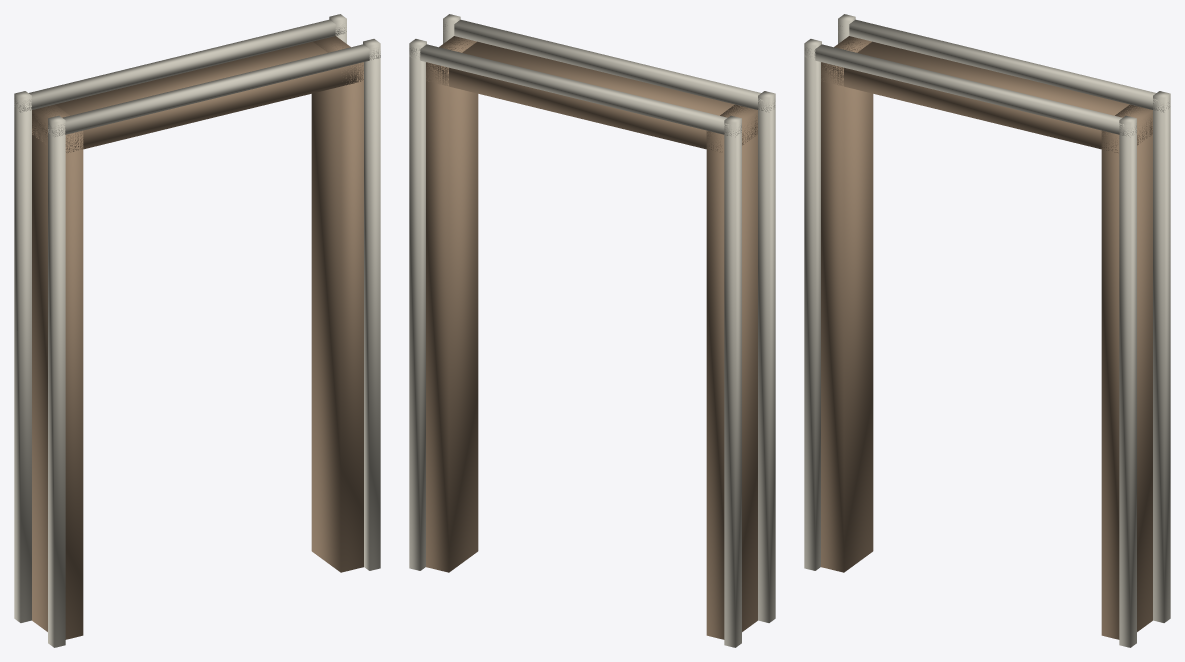
File: doorway_painted_trim_w122_h220_d24.glb
3 renders of one model, left to right at view 1: azimuth 30°, elevation 25°; view 2: azimuth 150°, elevation 25°; view 3: azimuth 330°, elevation 25°, orthographic.
Visible parts, largest first — view 1: world; view 2: world; view 3: world.
Part boxes in pixels (<box>): world: <box>14,14,380,647</box>; world: <box>409,14,775,647</box>; world: <box>804,14,1170,647</box>.
Bounding box in the file's own units: 1.55 × 2.38 × 0.3296.
